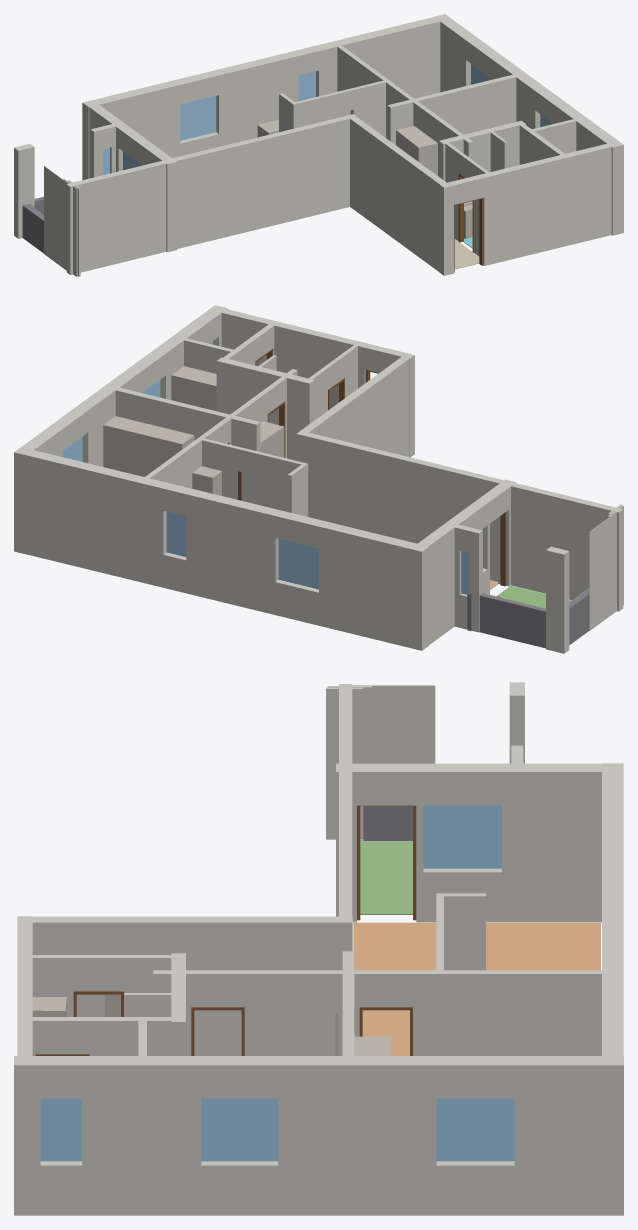
3 renders of one model, top to bottom at view 1: azimuth 30°, elevation 25°; view 2: azimuth 150°, elevation 25°; view 3: azimuth 270°, elevation 25°, orthographic. The views are drawn at different scales.
Visible parts, largest first — view 1: walls, window_2, furniture_2_closet, railings, floor_2_Entry, window_4, door_5; view 2: walls, railings, furniture_1_closet, window_2, furniture_3_closet, window_4, furniture_2_closet, furniture_0_closet, floor_4_Outdoor, door_6; view 3: walls, floor_0_Living_Room, window_3, window_0, window_1, floor_4_Outdoor, window_11, railings, door_6, furniture_1_closet.
Part boxes in pixels (x1=…): walls: x1=14, y1=14, x2=623, y2=276; window_2: x1=180, y1=96, x2=216, y2=140; furniture_2_closet: x1=396, y1=126, x2=437, y2=175; railings: x1=22, y1=196, x2=43, y2=253; floor_2_Entry: x1=454, y1=239, x2=479, y2=269; window_4: x1=298, y1=71, x2=315, y2=100; door_5: x1=454, y1=198, x2=483, y2=272; walls: x1=14, y1=305, x2=623, y2=653; railings: x1=467, y1=588, x2=589, y2=648; furniture_1_closet: x1=103, y1=416, x2=194, y2=476; window_2: x1=278, y1=539, x2=318, y2=589; furniture_3_closet: x1=171, y1=366, x2=216, y2=411; window_4: x1=166, y1=511, x2=186, y2=556; furniture_2_closet: x1=260, y1=421, x2=284, y2=457; furniture_0_closet: x1=192, y1=466, x2=221, y2=495; floor_4_Outdoor: x1=496, y1=585, x2=570, y2=608; door_6: x1=500, y1=512, x2=506, y2=586; walls: x1=14, y1=682, x2=623, y2=1215; floor_0_Living_Room: x1=353, y1=922, x2=600, y2=1055; window_3: x1=423, y1=805, x2=501, y2=868; window_0: x1=436, y1=1098, x2=514, y2=1161; window_1: x1=201, y1=1098, x2=278, y2=1161; floor_4_Outdoor: x1=360, y1=840, x2=412, y2=914; window_11: x1=40, y1=1098, x2=81, y2=1161; railings: x1=363, y1=806, x2=412, y2=841; door_6: x1=357, y1=805, x2=416, y2=920; furniture_1_closet: x1=354, y1=1036, x2=391, y2=1055.
Size of the model in its own units: 14.75 by 2.72 by 9.93.
